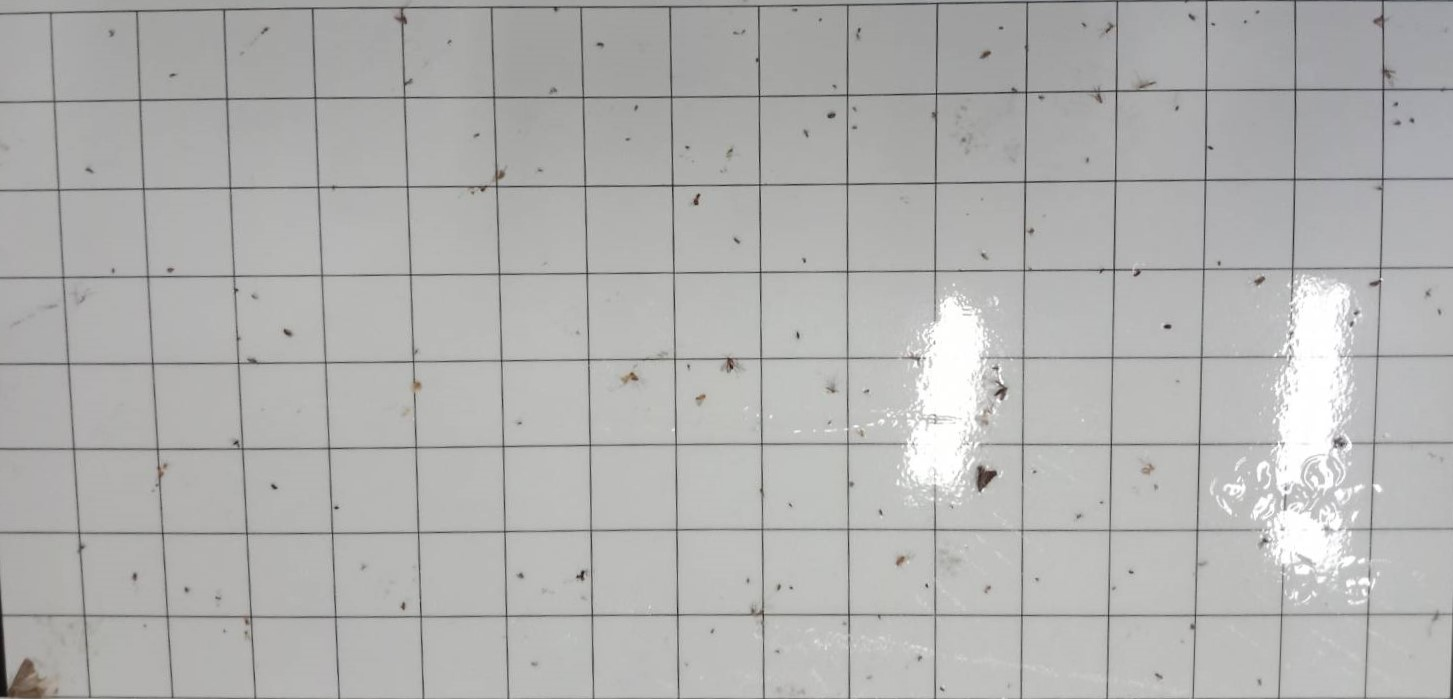test: (8, 657, 53, 698), (977, 462, 999, 494), (991, 379, 1010, 402), (721, 355, 738, 375), (620, 370, 641, 386), (1136, 77, 1158, 92), (1373, 12, 1391, 29), (1381, 67, 1397, 82), (1329, 436, 1346, 450), (1142, 462, 1156, 477), (691, 192, 704, 208), (1092, 90, 1105, 106), (574, 569, 588, 583), (394, 13, 408, 27), (894, 554, 908, 567), (694, 392, 708, 405), (493, 168, 506, 182), (1257, 536, 1271, 549), (1254, 273, 1266, 288), (1368, 277, 1383, 289), (980, 49, 993, 62), (411, 380, 424, 392), (1103, 23, 1116, 35), (281, 327, 295, 338), (853, 25, 865, 37), (825, 110, 838, 121), (402, 75, 415, 86), (825, 383, 837, 394), (259, 25, 270, 37), (84, 165, 96, 176), (76, 543, 87, 554), (983, 584, 993, 596), (1154, 672, 1166, 682), (106, 28, 119, 37), (156, 469, 167, 479), (1162, 322, 1173, 332), (1423, 289, 1433, 300), (1187, 12, 1197, 23), (1255, 678, 1266, 688), (399, 600, 408, 612), (246, 356, 258, 365), (233, 438, 243, 448), (732, 235, 742, 245), (478, 183, 488, 193), (980, 252, 990, 262), (1026, 227, 1036, 237), (1352, 308, 1362, 318), (802, 129, 812, 139), (243, 616, 252, 627), (1133, 267, 1142, 278), (269, 482, 279, 491), (749, 606, 759, 615), (991, 363, 1001, 372), (1206, 143, 1216, 152), (1348, 319, 1358, 328), (1394, 119, 1403, 129), (1009, 85, 1019, 94), (930, 110, 939, 120), (596, 40, 606, 49), (548, 87, 558, 96), (166, 265, 176, 274), (250, 292, 259, 302), (131, 572, 139, 583), (794, 330, 802, 341), (517, 571, 526, 580), (939, 685, 948, 694), (472, 132, 481, 141), (863, 386, 871, 396), (1173, 103, 1181, 113), (1408, 116, 1416, 126), (360, 563, 367, 574), (333, 504, 342, 512), (214, 594, 223, 602), (775, 583, 783, 592), (801, 256, 809, 265), (1216, 259, 1224, 268), (1375, 185, 1384, 193), (1436, 307, 1444, 316), (683, 143, 691, 152), (1080, 21, 1088, 30), (791, 6, 800, 14), (329, 184, 337, 193), (169, 71, 178, 79), (759, 487, 766, 497), (859, 429, 866, 439), (864, 674, 874, 681), (183, 586, 191, 594), (243, 629, 251, 637), (516, 419, 524, 427), (916, 655, 924, 663), (530, 661, 538, 669), (1076, 512, 1084, 520), (1152, 483, 1160, 491), (685, 362, 693, 370), (826, 419, 834, 427), (624, 136, 632, 144), (831, 83, 839, 91), (552, 5, 560, 13), (740, 28, 748, 36), (232, 286, 240, 294), (1110, 584, 1118, 592), (848, 480, 855, 489), (1127, 568, 1136, 575), (1084, 156, 1091, 165), (633, 104, 640, 113), (1209, 21, 1218, 28), (727, 147, 736, 154), (1174, 378, 1184, 384), (787, 501, 794, 509), (745, 577, 752, 585), (876, 613, 883, 621), (1098, 498, 1105, 506), (412, 348, 420, 355), (1097, 268, 1105, 275), (1393, 100, 1400, 108), (851, 105, 858, 113), (851, 125, 859, 132), (1254, 8, 1261, 16), (998, 24, 1005, 32), (446, 38, 453, 46), (732, 29, 739, 37), (234, 335, 241, 343), (841, 620, 848, 628), (1037, 94, 1046, 100), (710, 628, 717, 635), (787, 584, 794, 591), (774, 648, 781, 655), (1242, 18, 1249, 25), (110, 267, 117, 274), (924, 581, 930, 589), (878, 507, 884, 515), (1031, 469, 1039, 475), (1190, 623, 1196, 631), (536, 167, 544, 173), (818, 16, 823, 25), (221, 628, 228, 634), (141, 622, 148, 628), (1034, 577, 1041, 583), (755, 56, 760, 64), (1028, 266, 1034, 272)
